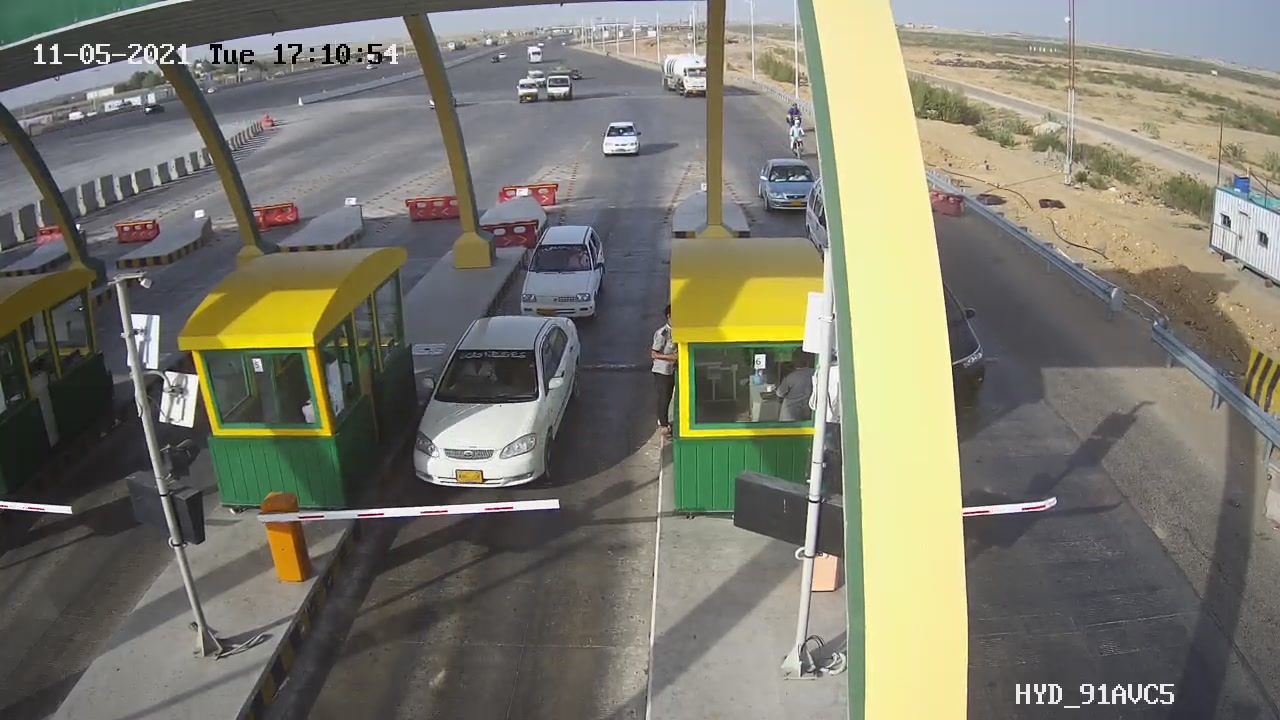F1: (390, 303, 587, 495), (507, 212, 620, 335)
